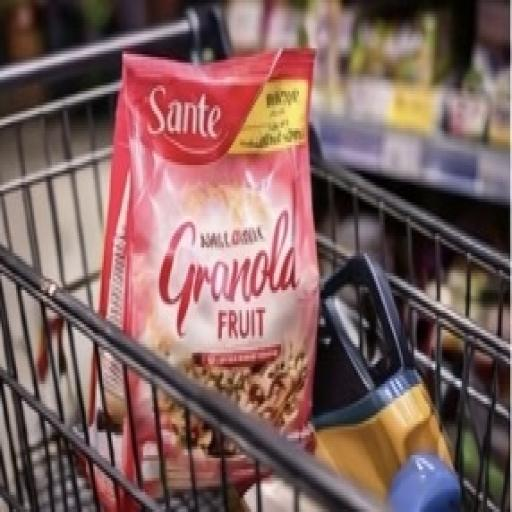granola: (94, 28, 354, 504)
